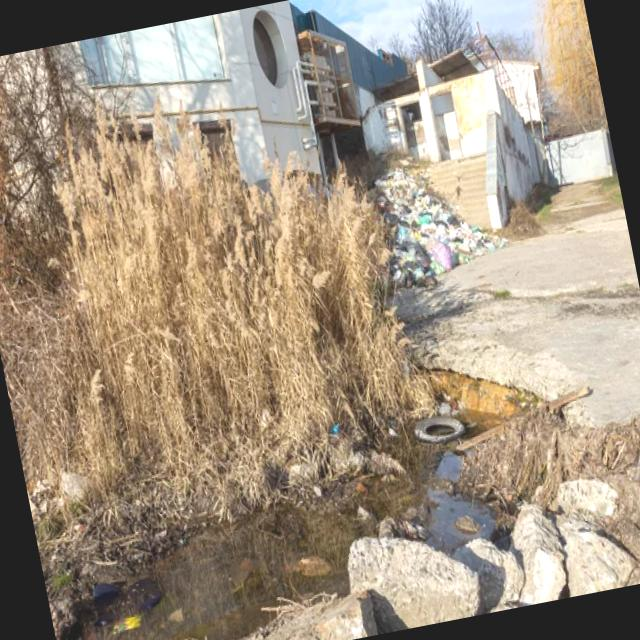garbage: (363, 150, 472, 302)
